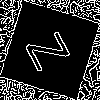Z: (24, 24, 80, 73)
